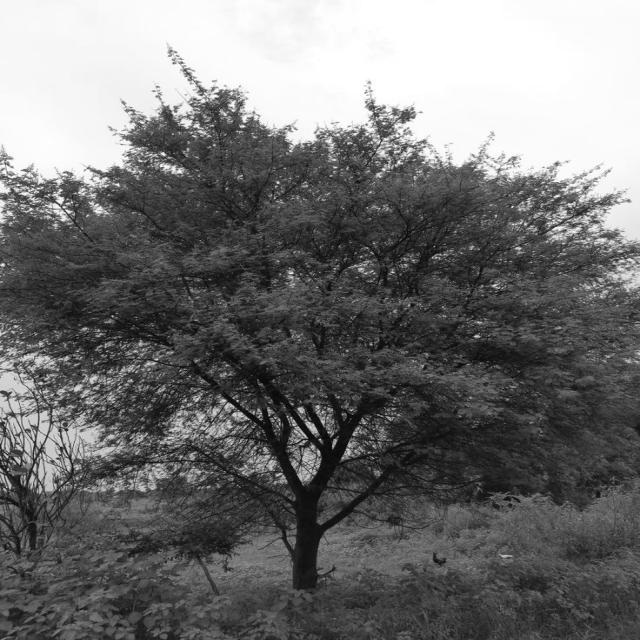Acacia: (30, 108, 618, 588)
